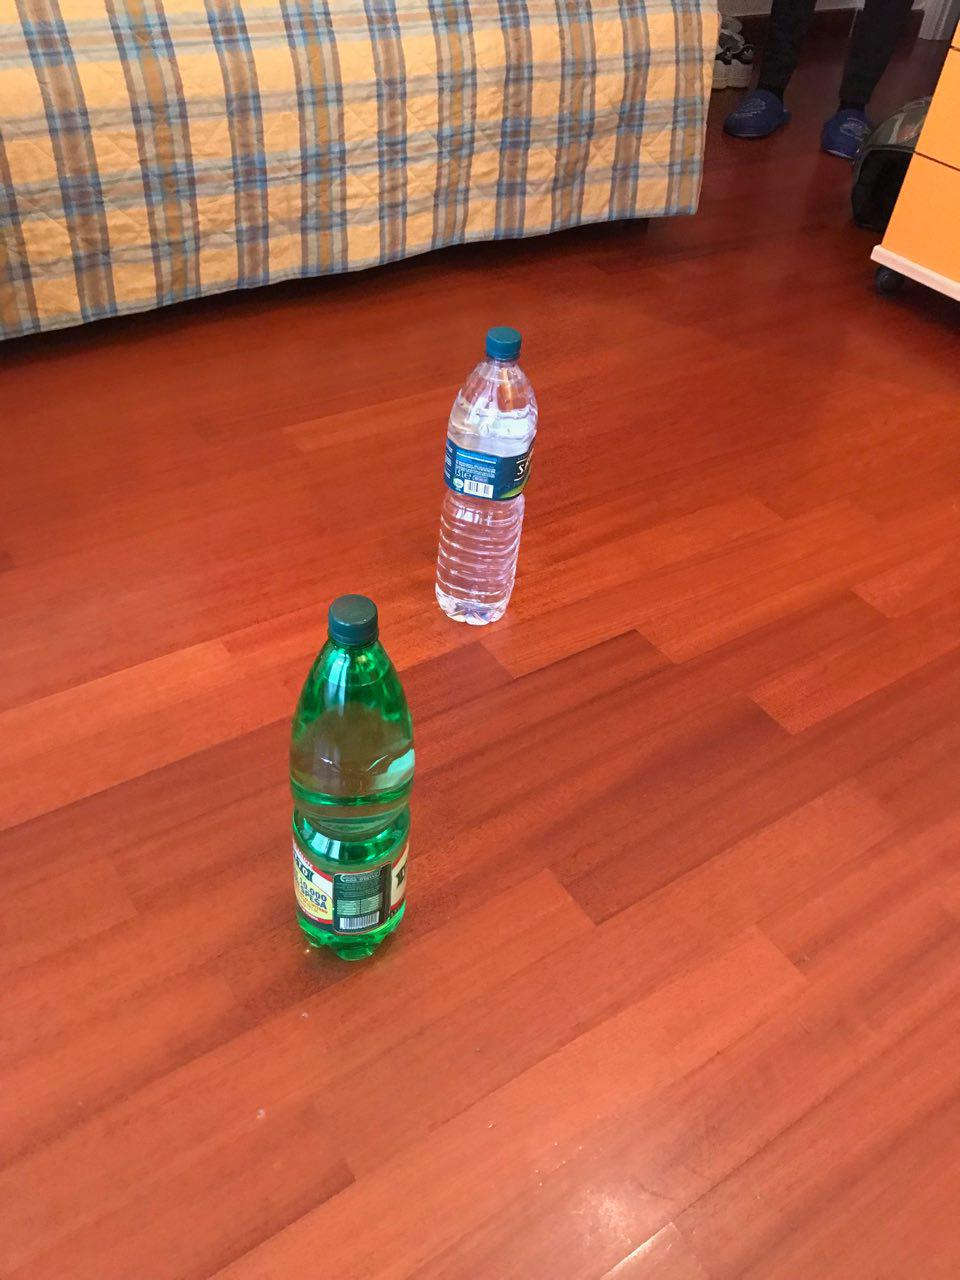san_bernardo: (434, 328, 541, 627)
